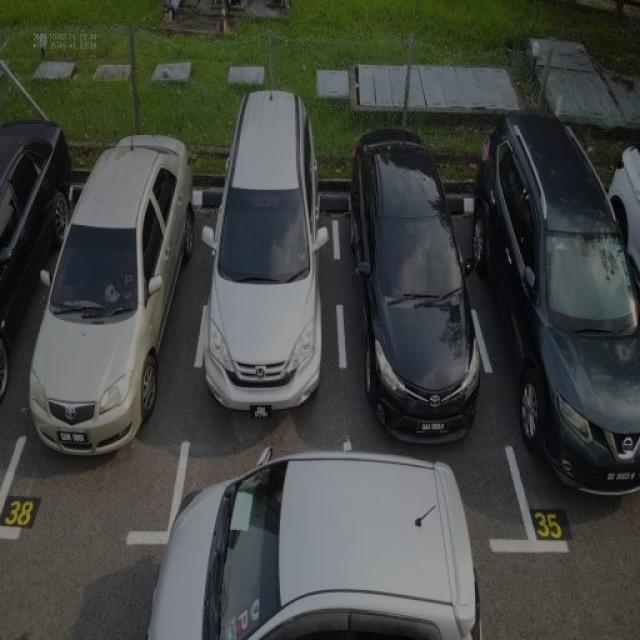Legalparking: (472, 111, 639, 492), (29, 135, 195, 455), (202, 90, 328, 416), (350, 129, 480, 441), (0, 120, 70, 401)
illegalparking: (149, 448, 481, 639)
